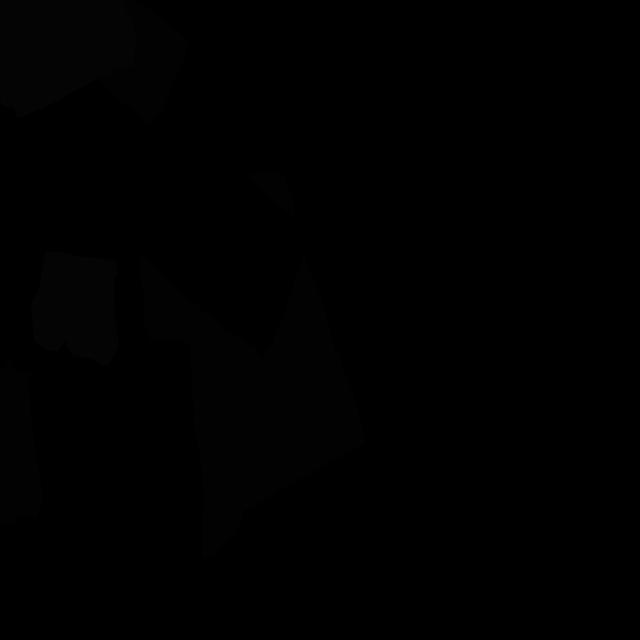cardboard: (139, 255, 365, 559), (97, 0, 189, 127), (0, 359, 43, 525), (248, 170, 296, 221)
soft_plastic: (31, 251, 119, 365)
